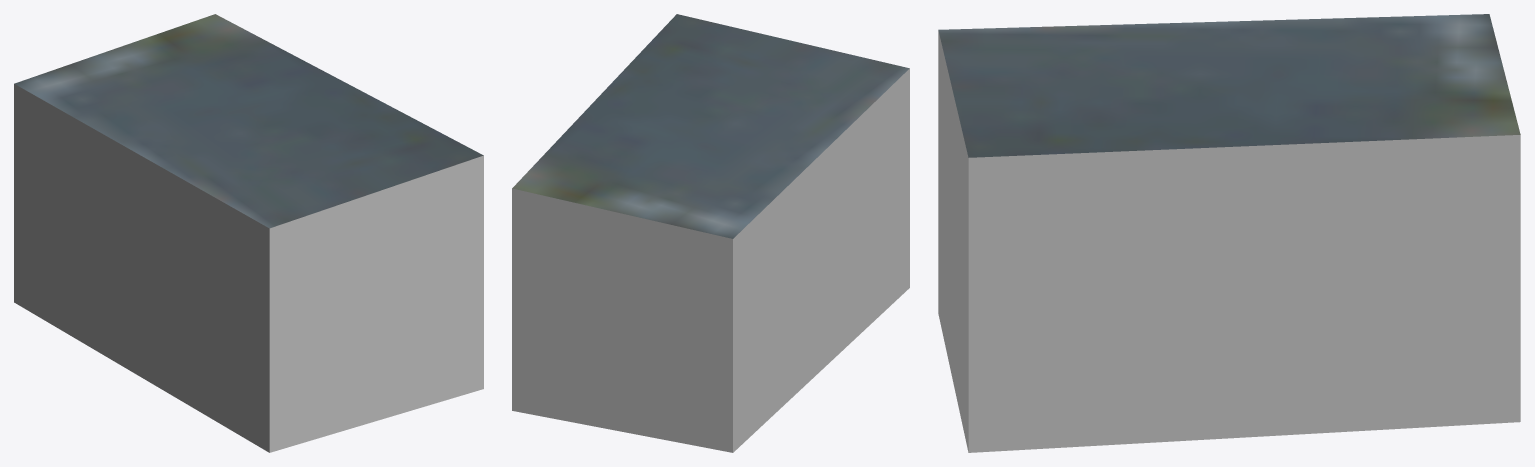
The model's file is DEBW_0010007TxdB.gltf.
3 renders of one model, left to right at view 1: azimuth 30°, elevation 25°; view 2: azimuth 150°, elevation 25°; view 3: azimuth 270°, elevation 25°, orthographic. The views are drawn at different scales.
Visible parts, largest first — view 1: Z_UP; view 2: Z_UP; view 3: Z_UP.
Part boxes in pixels (x1=…): Z_UP: x1=14, y1=14, x2=483, y2=452; Z_UP: x1=512, y1=14, x2=909, y2=452; Z_UP: x1=938, y1=14, x2=1520, y2=452.
Size of the model in its own units: 3.95 by 3.34 by 5.98.
2 materials, 1 textured.
